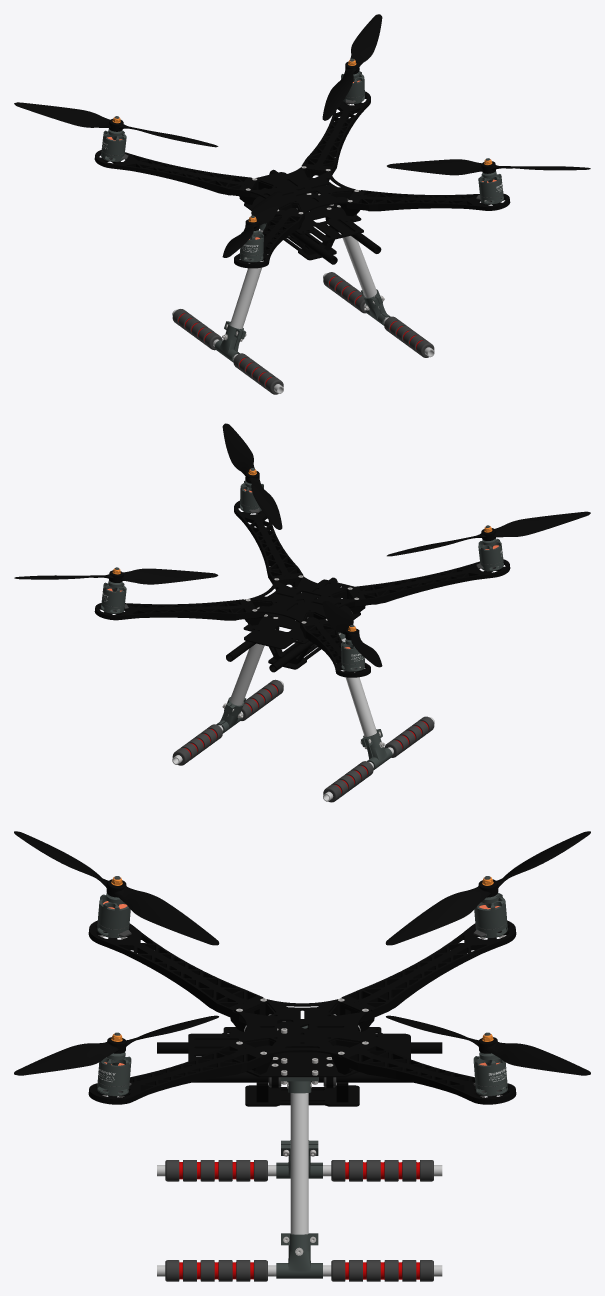
File: CDG4_D2_Main_Assembly.gltf
3 views of the same model, one above another, from view 1: azimuth 30°, elevation 25°; view 2: azimuth 150°, elevation 25°; view 3: azimuth 270°, elevation 25° (orthographic). The views are drawn at different scales.
Parts seen in each view (by area): view 1: Solid2 (×6), Solid1 (×13); view 2: Solid2 (×6), Solid1 (×13); view 3: Solid2 (×9), Solid1 (×15).
Part boxes in pixels (x1,y1,x2,y2): Solid2 (×6): [94, 91, 510, 268]; Solid1 (×13): [14, 14, 590, 394]; Solid2 (×6): [94, 500, 510, 677]; Solid1 (×13): [14, 423, 590, 802]; Solid2 (×9): [88, 920, 516, 1106]; Solid1 (×15): [14, 831, 590, 1281].
Bounding box in the file's own units: 0.5052 × 0.2687 × 0.5052.
